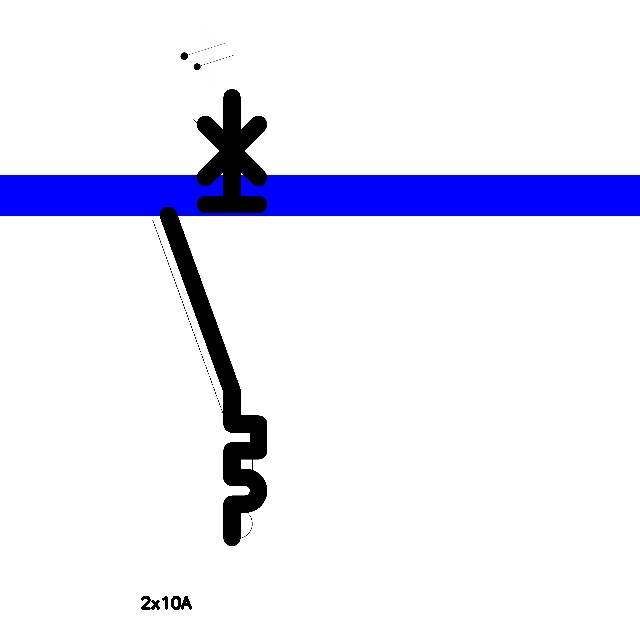interruptor_termomagnetico: (140, 77, 265, 587), (157, 86, 270, 548)
